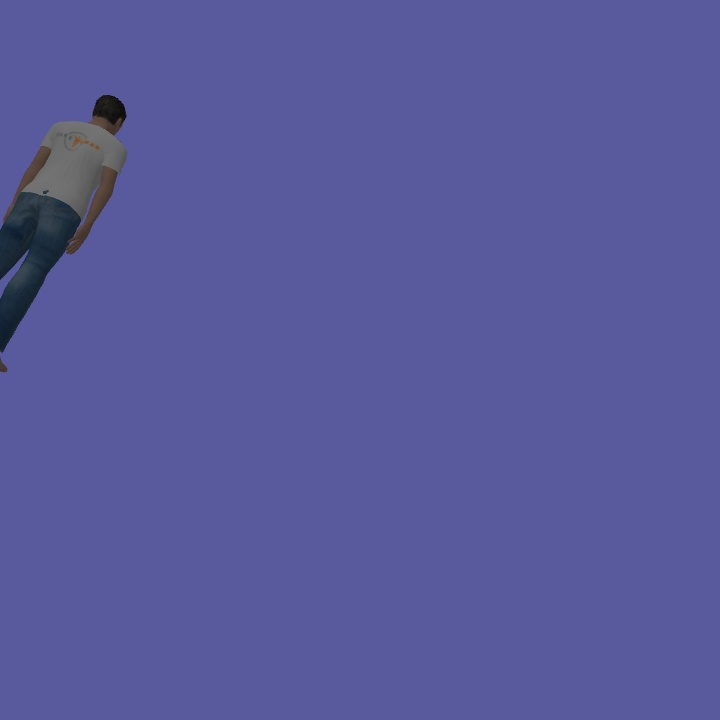victim: (2, 91, 131, 372)
